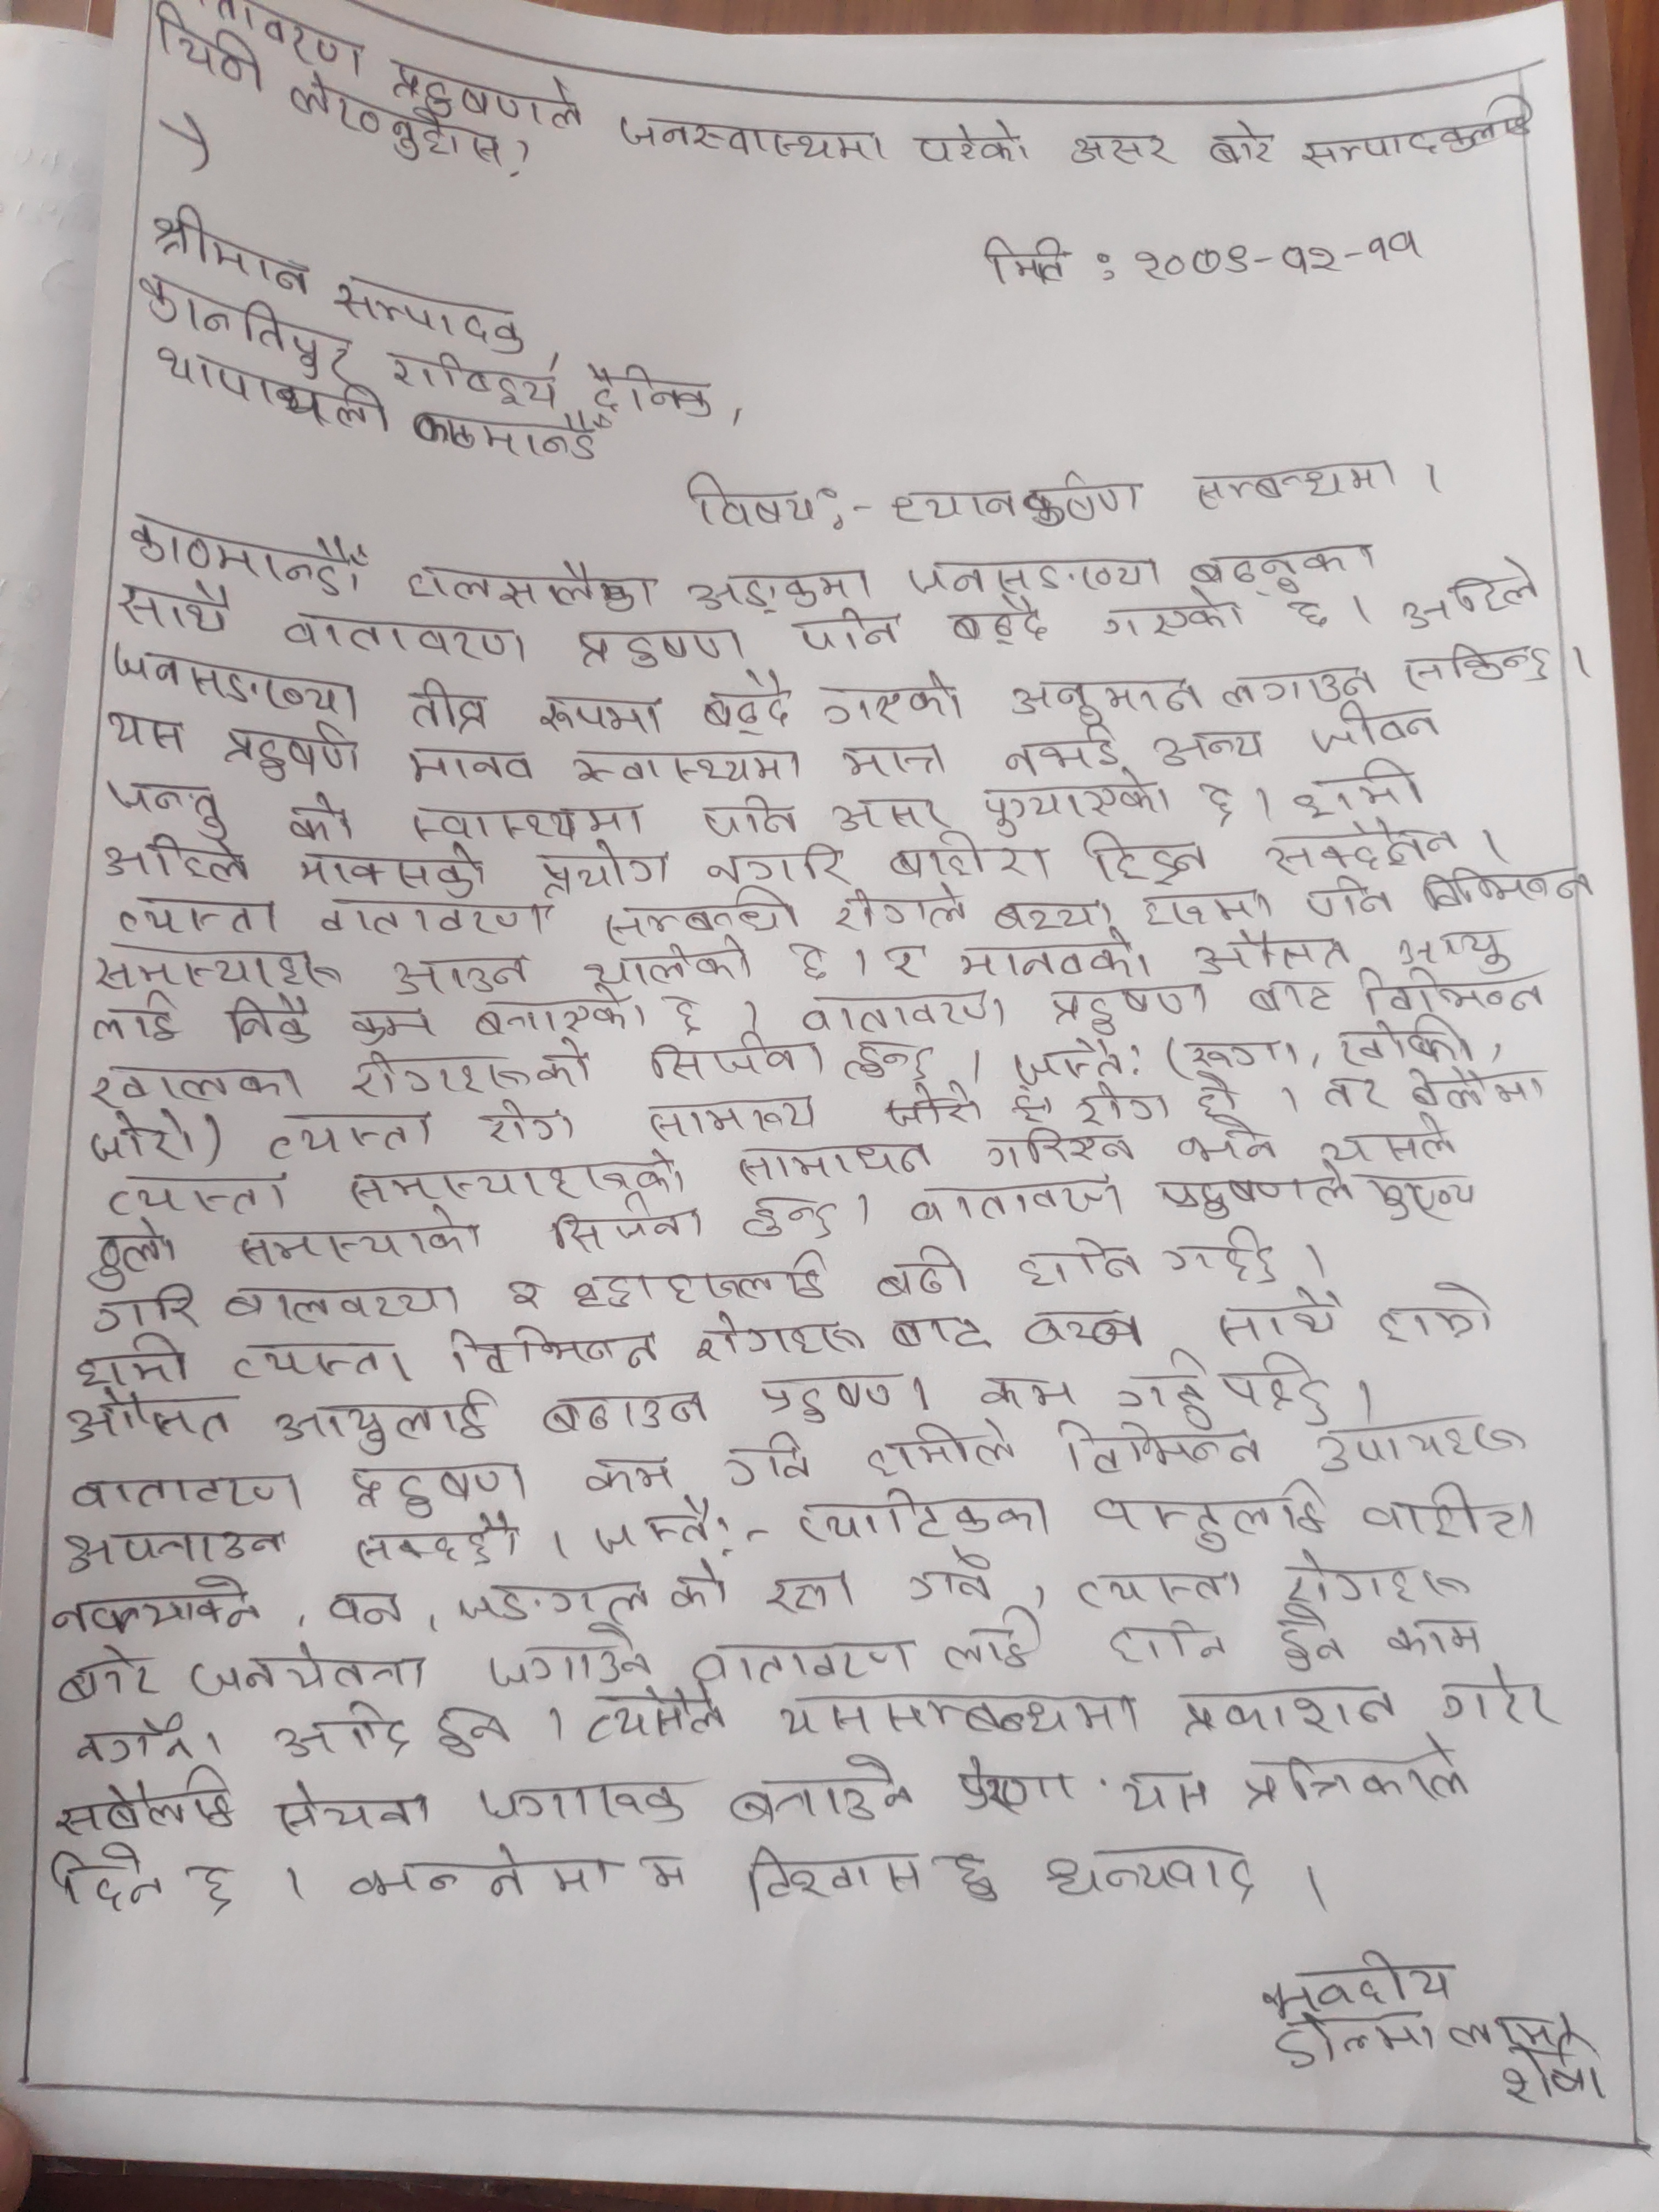text: (769, 1674, 1150, 1743), (115, 510, 369, 599), (101, 641, 366, 725), (136, 275, 354, 376), (1300, 91, 1534, 179), (155, 357, 389, 444), (1126, 223, 1432, 286), (272, 599, 532, 672), (1075, 1479, 1335, 1552), (1115, 1348, 1340, 1430), (340, 1844, 627, 1907), (329, 268, 532, 355), (146, 202, 315, 300), (385, 49, 589, 129), (343, 1160, 688, 1207), (1042, 1841, 1263, 1914), (342, 1038, 598, 1101), (795, 1487, 1056, 1548), (92, 939, 345, 1001), (1241, 1743, 1476, 1810), (721, 1756, 924, 1832), (186, 1639, 432, 1702), (61, 1458, 305, 1521), (1345, 1472, 1539, 1550), (1056, 1406, 1262, 1479), (272, 1392, 498, 1458), (307, 885, 559, 942), (568, 1252, 836, 1306), (82, 1052, 303, 1116), (263, 1773, 441, 1853), (1258, 1947, 1467, 2015), (1176, 458, 1413, 517), (561, 737, 803, 794), (1176, 1676, 1405, 1737), (612, 113, 885, 164), (289, 834, 497, 900), (230, 1211, 483, 1264), (1310, 1418, 1527, 1480), (51, 1773, 247, 1841), (54, 1576, 267, 1639), (214, 1278, 467, 1331), (596, 883, 805, 946), (474, 1775, 695, 1834), (727, 1843, 922, 1909), (1387, 554, 1544, 636), (401, 563, 664, 611), (1152, 1162, 1356, 1224), (901, 545, 1162, 594), (683, 1635, 927, 1688), (437, 1568, 655, 1625), (403, 791, 650, 841), (906, 1174, 1129, 1230), (1272, 1547, 1473, 1608), (58, 1526, 291, 1578), (342, 1449, 530, 1514), (64, 1381, 242, 1449), (796, 989, 1018, 1043), (221, 1332, 416, 1393), (634, 1028, 826, 1089), (945, 928, 1154, 984), (410, 409, 615, 465), (343, 1512, 530, 1573), (450, 1322, 666, 1374), (716, 1134, 939, 1184), (1002, 671, 1209, 725), (382, 350, 568, 409), (1276, 752, 1429, 824), (1412, 859, 1600, 916), (211, 714, 369, 782), (579, 934, 760, 993), (972, 779, 1176, 831), (99, 1170, 301, 1223), (108, 885, 291, 942), (1159, 1214, 1293, 1292), (474, 1629, 650, 1688), (535, 1202, 716, 1259), (268, 1104, 439, 1165), (530, 1385, 716, 1440), (1276, 2012, 1441, 2074), (153, 3, 270, 92), (260, 1702, 410, 1770), (1260, 822, 1466, 871), (579, 1679, 734, 1743), (45, 1841, 173, 1919), (464, 986, 653, 1038), (809, 672, 971, 733), (687, 1308, 870, 1362), (580, 352, 718, 423), (532, 834, 669, 906), (641, 1087, 823, 1141), (751, 1371, 936, 1423), (1037, 981, 1209, 1036), (1370, 1271, 1495, 1348), (943, 1747, 1077, 1818), (1399, 634, 1556, 695), (1068, 1562, 1251, 1615), (99, 829, 251, 892), (565, 622, 758, 671), (681, 566, 882, 613), (868, 1420, 1021, 1480), (1187, 538, 1382, 585), (1324, 1019, 1481, 1076), (1021, 463, 1154, 531), (99, 775, 235, 841), (1098, 1613, 1237, 1677), (1382, 968, 1553, 1021), (75, 1103, 202, 1172), (1211, 655, 1380, 707), (1312, 1113, 1466, 1170), (676, 470, 819, 531), (702, 840, 861, 894), (878, 840, 1053, 888), (1396, 1062, 1553, 1116), (1312, 697, 1443, 761), (1434, 1669, 1563, 1733), (1176, 930, 1359, 975), (1077, 829, 1211, 890), (378, 949, 542, 998), (1136, 719, 1279, 775), (108, 575, 242, 634), (1014, 1231, 1143, 1292), (1094, 592, 1249, 643), (1368, 1155, 1480, 1224), (52, 1641, 164, 1710), (1502, 2047, 1614, 2116), (1127, 880, 1279, 930), (66, 1331, 192, 1392), (995, 723, 1126, 780), (82, 1219, 181, 1294), (73, 1714, 195, 1775), (1450, 2001, 1588, 2055), (1208, 1294, 1347, 1346), (737, 1183, 847, 1249), (84, 1282, 202, 1343), (983, 1123, 1136, 1170), (971, 226, 1084, 289), (823, 888, 978, 934), (934, 592, 1056, 650), (871, 1078, 983, 1141), (687, 669, 795, 733), (1018, 1301, 1147, 1355), (835, 732, 951, 791), (1175, 1019, 1288, 1080), (711, 1430, 821, 1493), (936, 1613, 1042, 1677), (467, 1094, 586, 1151), (884, 481, 1021, 529), (427, 1695, 518, 1768), (826, 1031, 936, 1090), (1000, 1040, 1138, 1087), (589, 1507, 713, 1559), (1385, 928, 1513, 979), (82, 989, 186, 1050), (399, 747, 542, 791), (913, 117, 1040, 165), (538, 686, 666, 735), (875, 1245, 978, 1305), (988, 890, 1112, 939), (1115, 1763, 1220, 1820), (826, 791, 945, 841), (972, 1362, 1079, 1416), (897, 1555, 1004, 1609), (1072, 1076, 1176, 1130), (760, 1564, 861, 1620), (690, 794, 807, 841), (274, 787, 361, 848), (1297, 871, 1398, 923), (401, 681, 498, 733), (1171, 1127, 1284, 1170), (342, 1000, 436, 1052), (793, 610, 904, 653), (1384, 1615, 1490, 1660), (586, 1449, 674, 1503), (225, 993, 315, 1045), (934, 1841, 1004, 1909), (1239, 977, 1347, 1021), (99, 704, 188, 756), (1270, 1608, 1340, 1674), (181, 1857, 251, 1923), (1063, 132, 1185, 169), (884, 1312, 990, 1353), (1307, 1071, 1389, 1123), (321, 1588, 413, 1634), (1204, 117, 1276, 174), (633, 1848, 697, 1904), (673, 1562, 730, 1623), (1188, 779, 1246, 836), (1188, 1071, 1251, 1123), (493, 1271, 558, 1317), (660, 984, 709, 1042), (878, 934, 929, 982), (784, 942, 840, 984), (1286, 590, 1335, 632)
